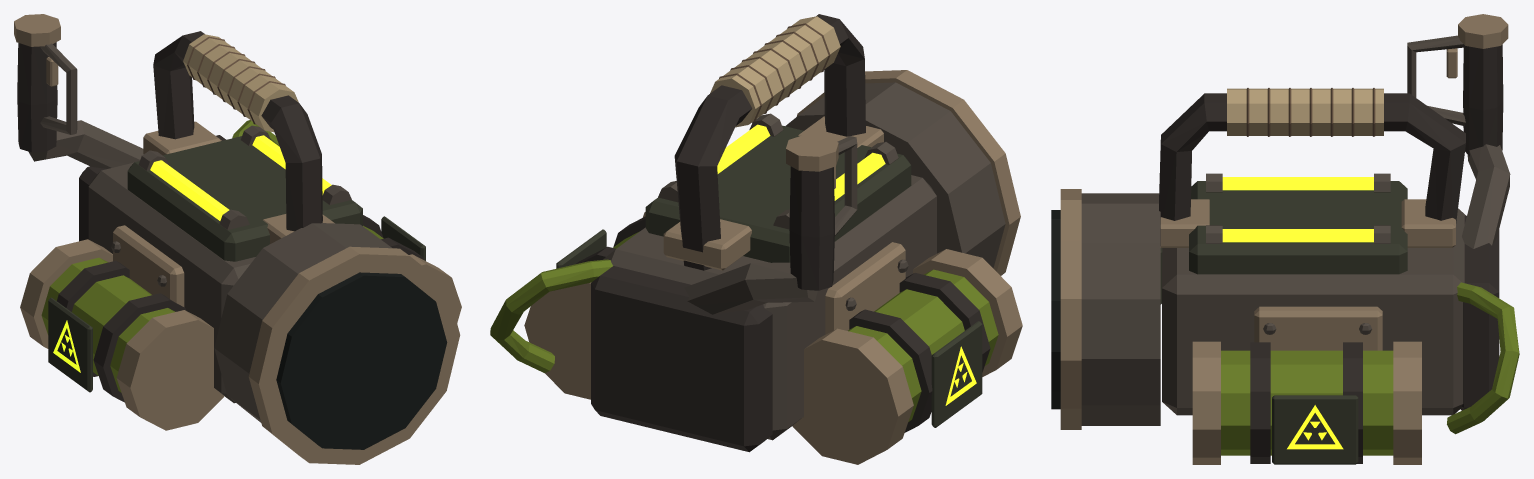
File: SM_Gunner_Minigun_Body.fbx
3 renders of one model, left to right at view 1: azimuth 30°, elevation 25°; view 2: azimuth 150°, elevation 25°; view 3: azimuth 270°, elevation 25°, orthographic. The views are drawn at different scales.
Visible parts, largest first — view 1: SM_Gunner_Minigun_Body; view 2: SM_Gunner_Minigun_Body; view 3: SM_Gunner_Minigun_Body.
Boxes of the visible parts, left/top/right/bottom form: SM_Gunner_Minigun_Body: left=14, top=14, right=461, bottom=464; SM_Gunner_Minigun_Body: left=490, top=14, right=1022, bottom=464; SM_Gunner_Minigun_Body: left=1051, top=14, right=1519, bottom=464.
Bounding box in the file's own units: 48.7 × 55.74 × 43.9.
1 material, 1 textured.
